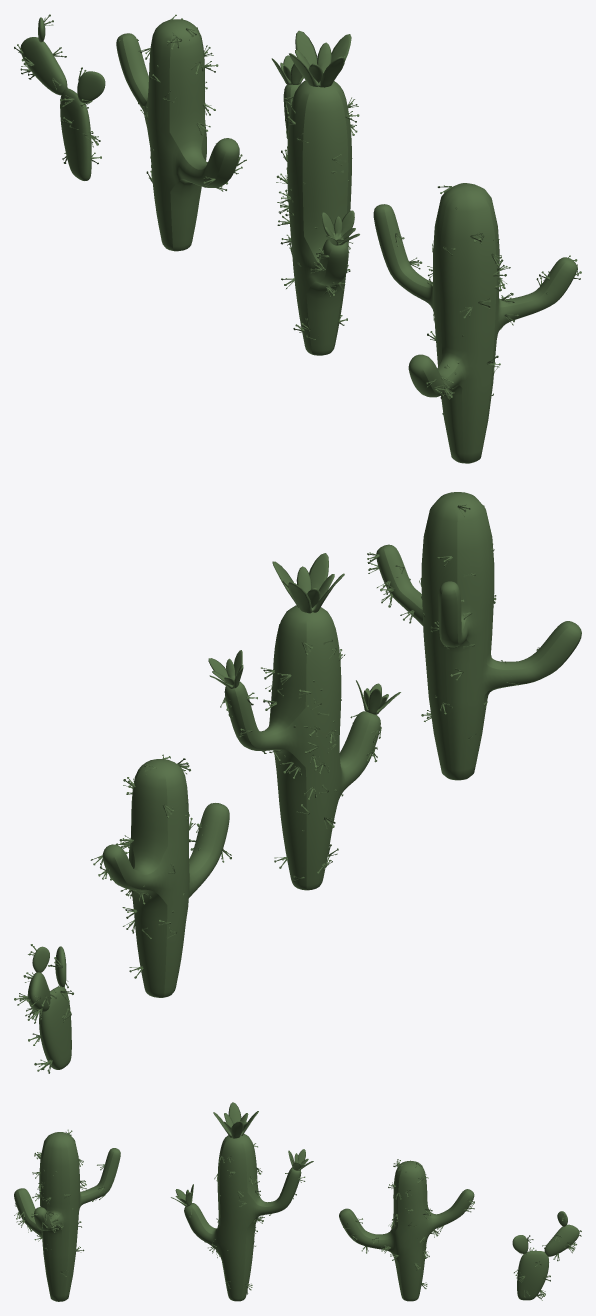
Rendered from F_cactus.fbx.
The picture shows the model from 3 angles, top to bottom: view 1: azimuth 30°, elevation 25°; view 2: azimuth 150°, elevation 25°; view 3: azimuth 270°, elevation 25°; orthographic projection. The views are drawn at different scales.
Visible parts, largest first — view 1: Cactus_2.001, CactusFlowers_2.002, Cactus_3.001, Cactus_5.001; view 2: CactusFlowers_2.002, Cactus_2.001, Cactus_3.001, Cactus_5.001; view 3: CactusFlowers_2.002, Cactus_2.001, Cactus_3.001, Cactus_5.001.
Boxes of the visible parts, left/top/right/bottom form: Cactus_2.001: left=373, top=183, right=581, bottom=463; CactusFlowers_2.002: left=271, top=30, right=359, bottom=355; Cactus_3.001: left=116, top=14, right=246, bottom=251; Cactus_5.001: left=14, top=14, right=105, bottom=180; CactusFlowers_2.002: left=208, top=553, right=400, bottom=890; Cactus_2.001: left=367, top=492, right=581, bottom=780; Cactus_3.001: left=90, top=754, right=231, bottom=997; Cactus_5.001: left=14, top=944, right=73, bottom=1073; CactusFlowers_2.002: left=171, top=1102, right=313, bottom=1301; Cactus_2.001: left=14, top=1129, right=120, bottom=1301; Cactus_3.001: left=339, top=1159, right=474, bottom=1301; Cactus_5.001: left=512, top=1211, right=581, bottom=1300.
Bounding box in the file's own units: 1734 × 634 × 404.
